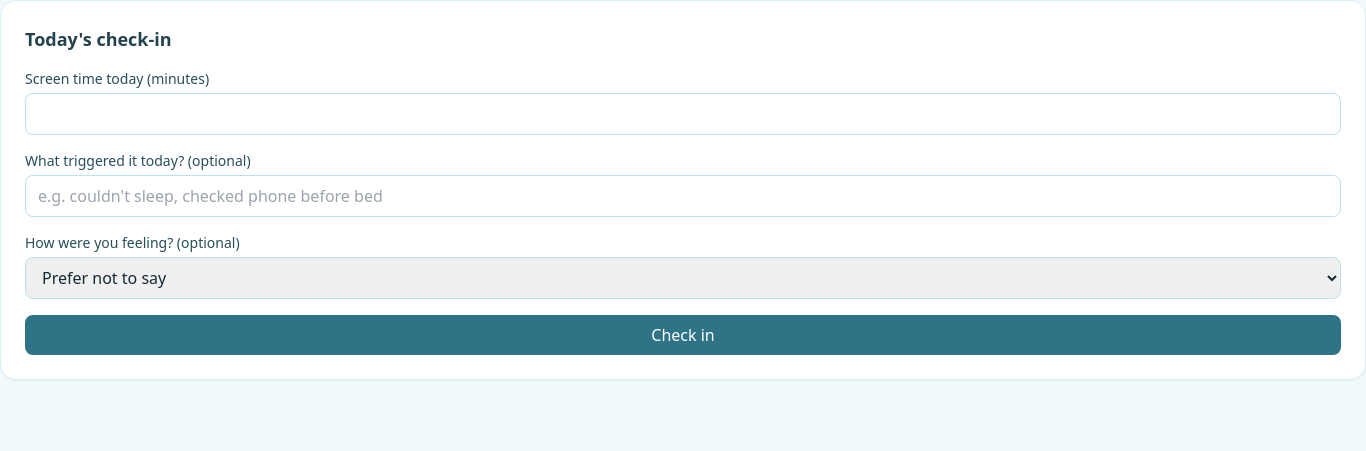
Test: CheckInForm › shows a validation error for invalid screen time and does not submit
This screenshot has width=1366, height=451.
Click the button "Check in" at (683, 335), box [25,315,1341,355]
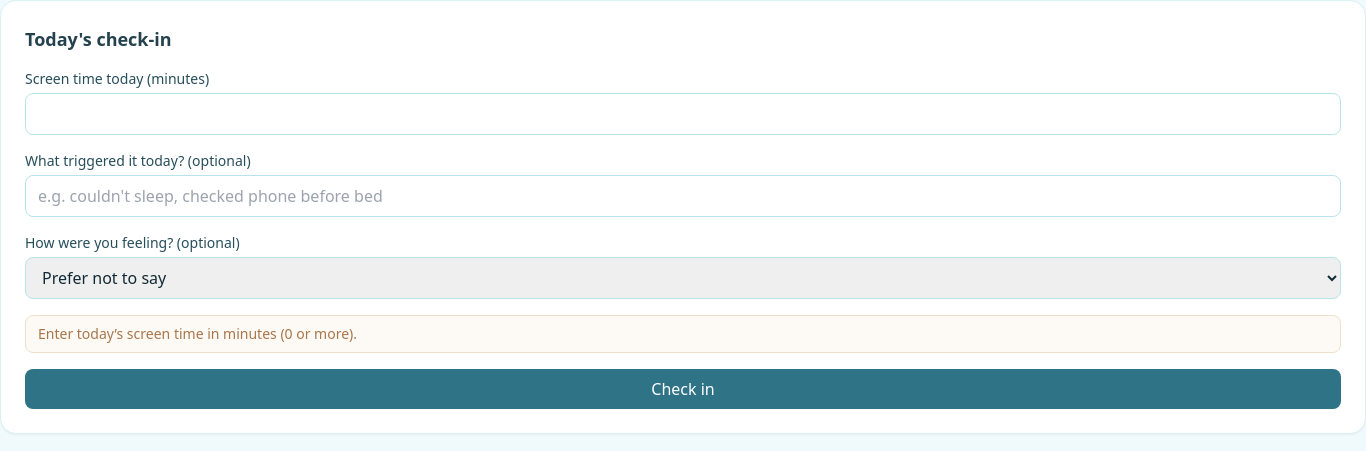
Now the message "Enter today’s screen time in minutes (0 or more)." is shown, box [25,315,1341,353]
